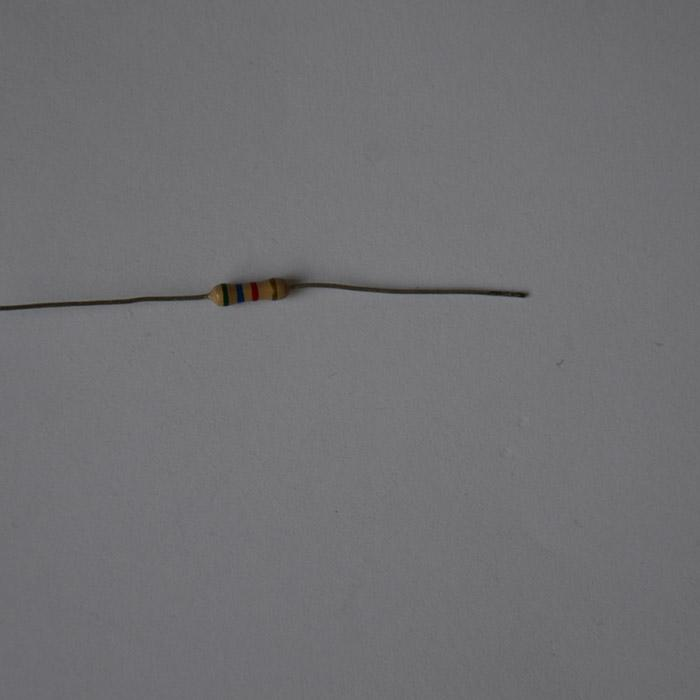resistor: (208, 278, 288, 307)
